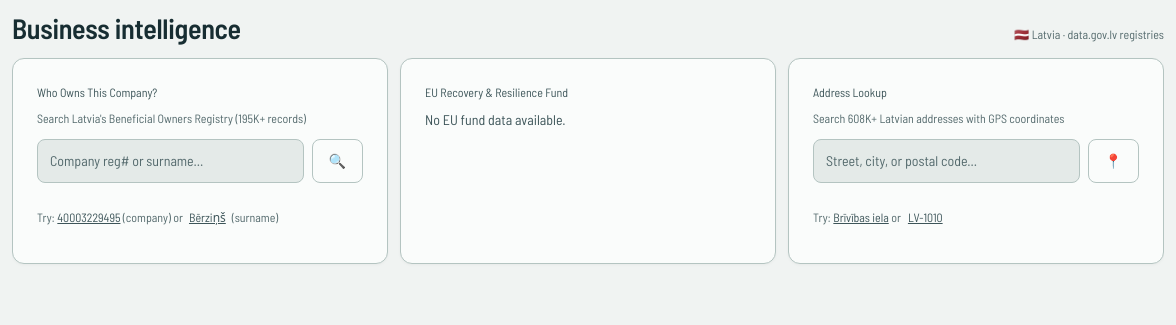
Test: API failures reach the reader › shows an accessible error for Search beneficial owners by company registration number or surname and clears it after retry
Type "Riga" into the field named "Search beneficial owners by company registration number or surname". click: (170, 161)
box: [37,139,304,183]
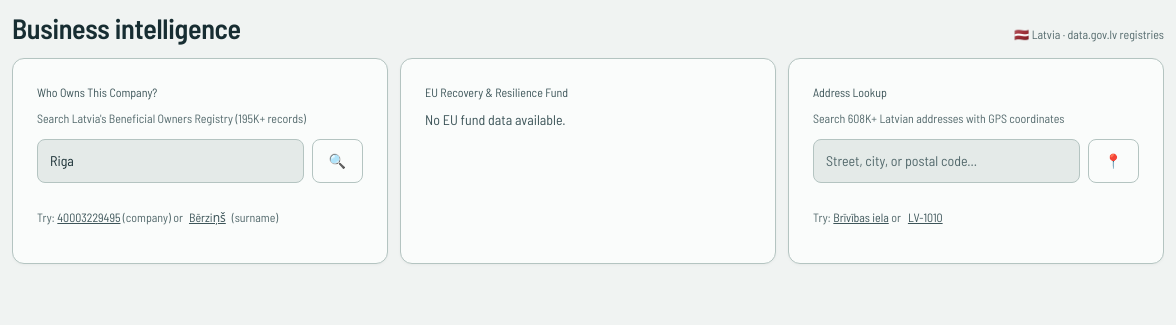
Click the button named "Search". click: (337, 161)
box: [312,139,363,183]
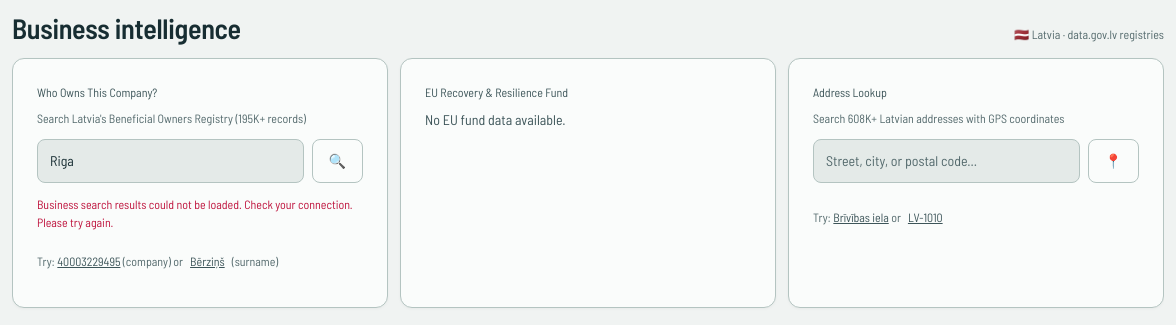
Expected: the message shows "Please try again", [37,197,353,229]
Click the button named "Search". click: (337, 161)
box: [312,139,363,183]
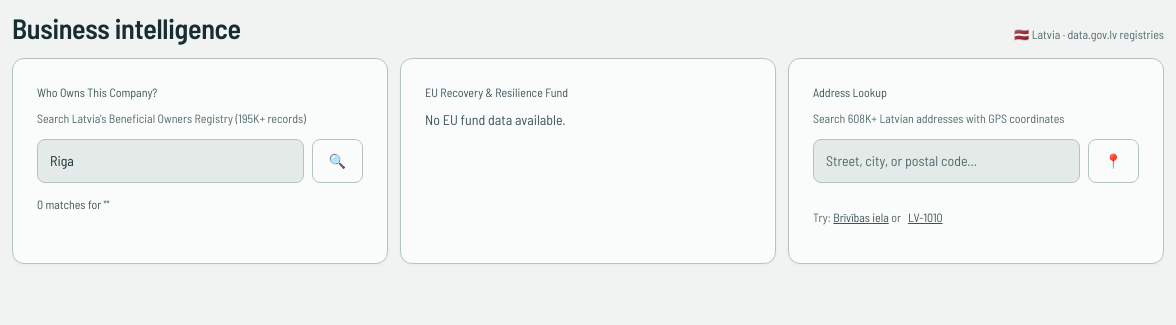
Expected: the text "0 matches for \"\"" is shown, [37,197,110,211]
Expected: the message is gone
